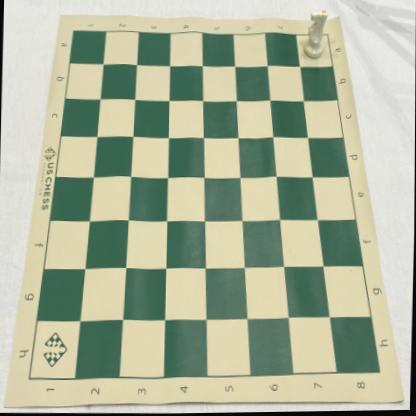white-knight: (302, 9, 328, 61)
